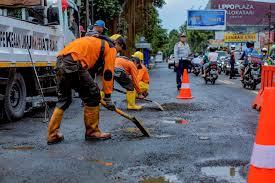Pothole: (117, 100, 225, 140), (118, 155, 272, 183), (60, 153, 118, 168), (0, 136, 38, 157)
